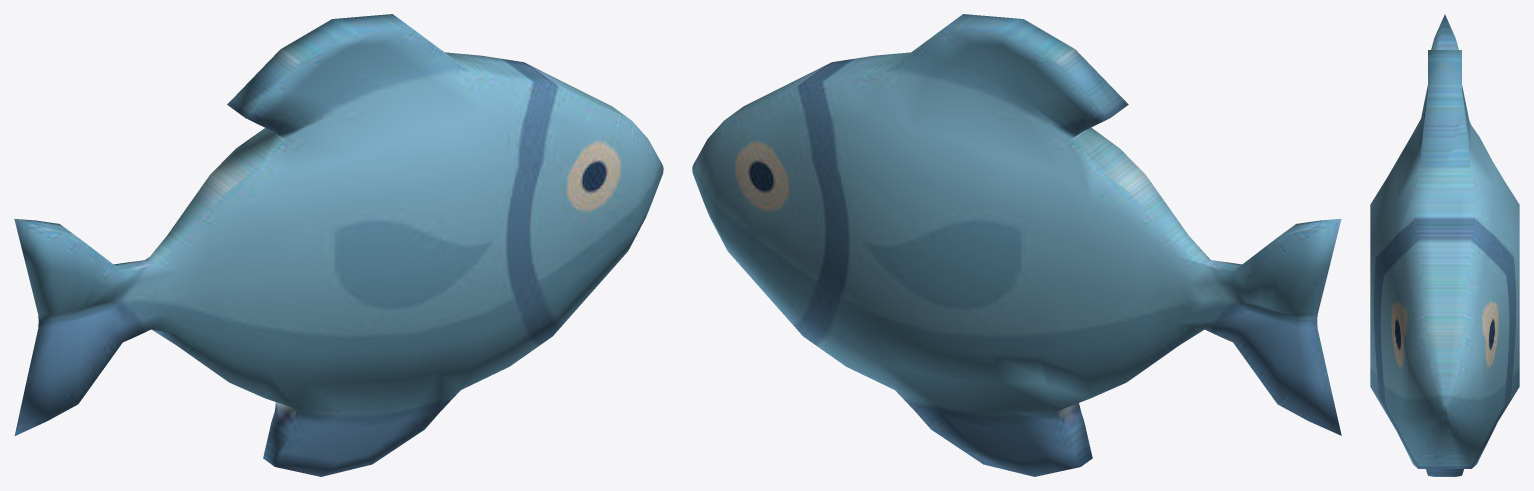
The model's file is hamsi.glb.
3 renders of one model, left to right at view 1: azimuth 30°, elevation 25°; view 2: azimuth 150°, elevation 25°; view 3: azimuth 270°, elevation 25°, orthographic. The views are drawn at different scales.
Parts seen in each view (by area): view 1: baluk; view 2: baluk; view 3: baluk.
Part boxes in pixels (<box>): baluk: <box>14,14,663,476</box>; baluk: <box>692,14,1341,476</box>; baluk: <box>1370,14,1519,476</box>.
Bounding box in the file's own units: 0.366 × 0.2377 × 0.0788.
Materials: 1 (1 with a texture image).
